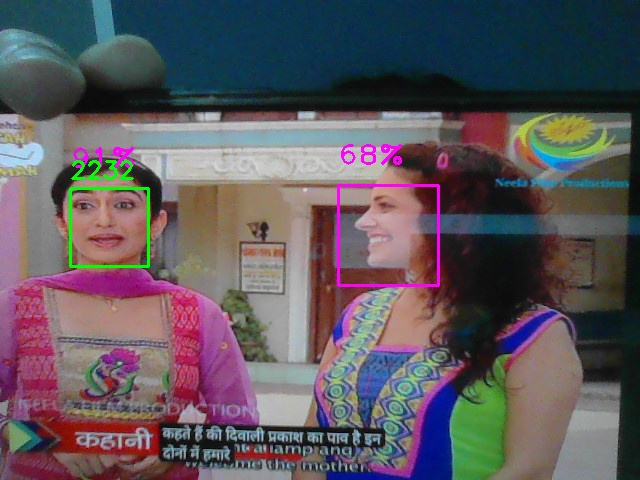fake: (70, 188, 149, 267)
